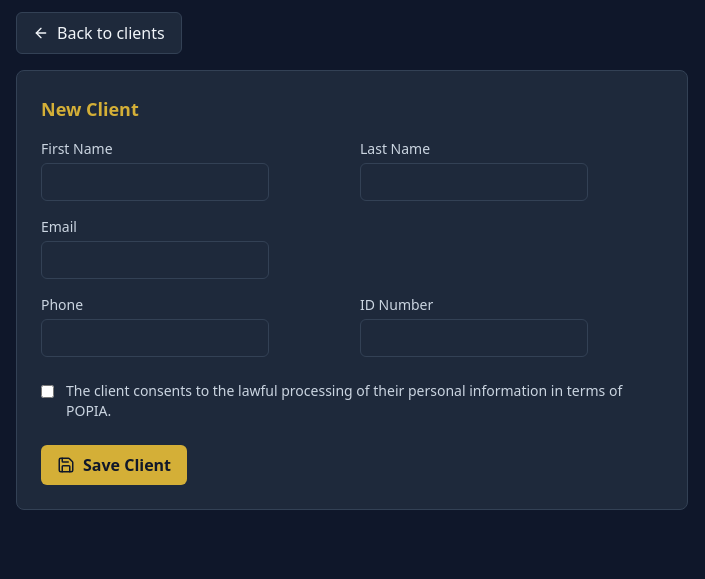
Scenario: NewClient › shows validation errors for required fields
Click the button "Save Client".
click(114, 465)  # box [41,445,187,485]
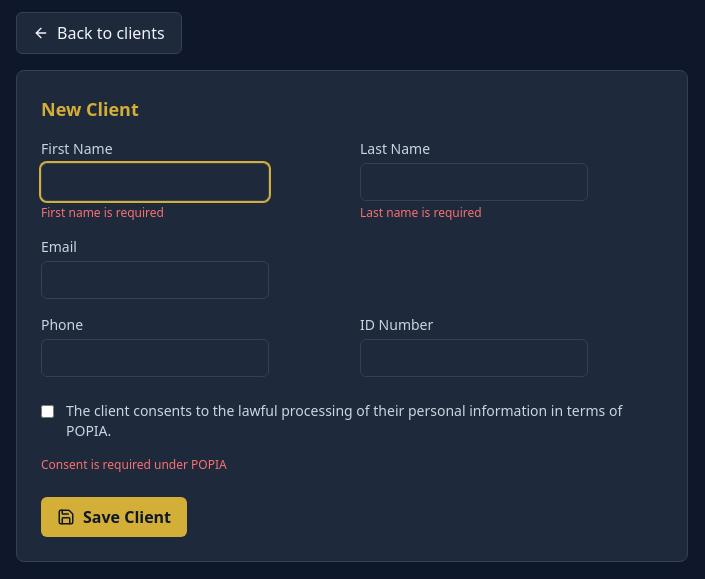
Now the text "First name is required" is shown, box [41,204,164,221]
Now the text "Last name is required" is shown, box [360,204,482,221]
Now the text "Consent is required under POPIA" is shown, box [41,456,227,473]
